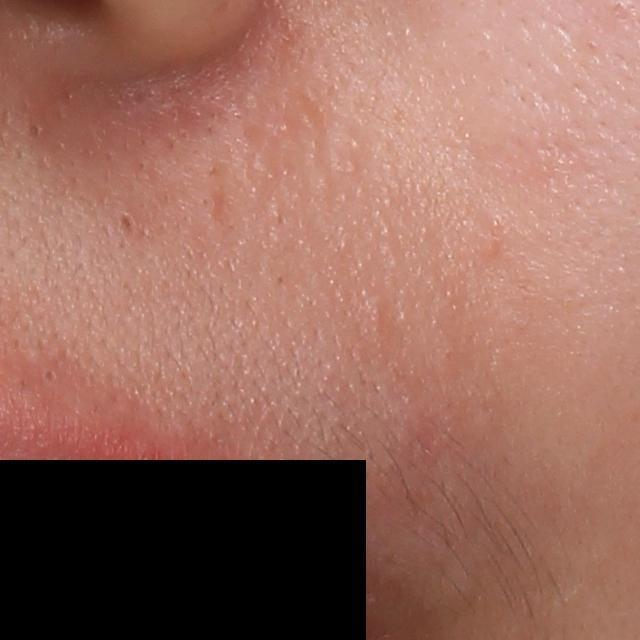comedo: (25, 119, 44, 139), (42, 366, 58, 384)
